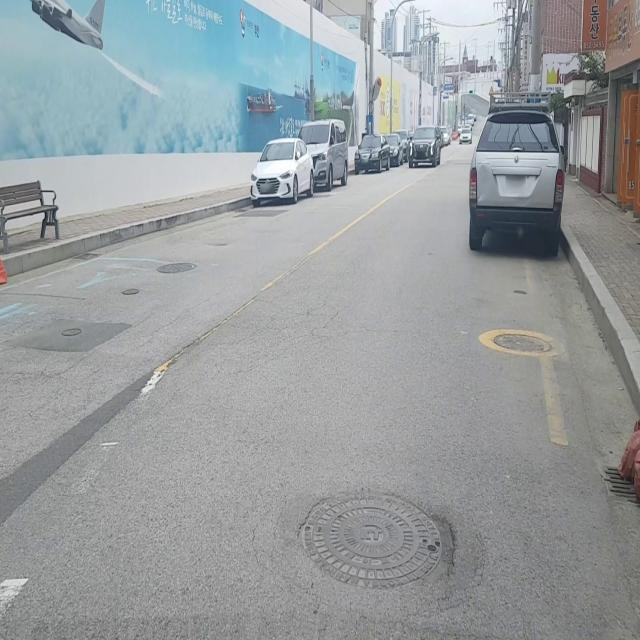Pothole: (295, 482, 459, 594)
